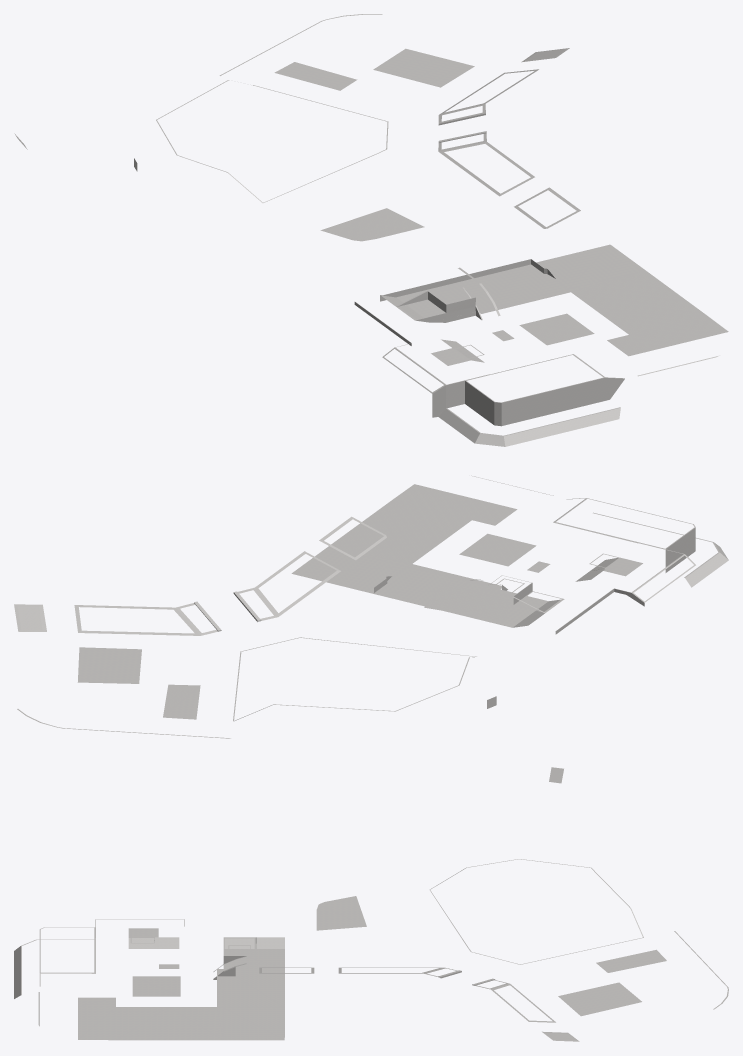
Rendered from kd_stage_1363c5_9_7.glb.
The picture shows the model from 3 angles, top to bottom: view 1: azimuth 30°, elevation 25°; view 2: azimuth 150°, elevation 25°; view 3: azimuth 270°, elevation 25°; orthographic projection. The views are drawn at different scales.
Visible parts, largest first — view 1: kd_stage_1363c5_9_7; view 2: kd_stage_1363c5_9_7; view 3: kd_stage_1363c5_9_7.
Boxes of the visible parts, <box> form: kd_stage_1363c5_9_7: <box>14,14,728,446</box>; kd_stage_1363c5_9_7: <box>14,475,728,738</box>; kd_stage_1363c5_9_7: <box>14,767,728,1041</box>.
Size of the model in its own units: 128 by 27.56 by 165.
Materials: 1 (1 with a texture image).
